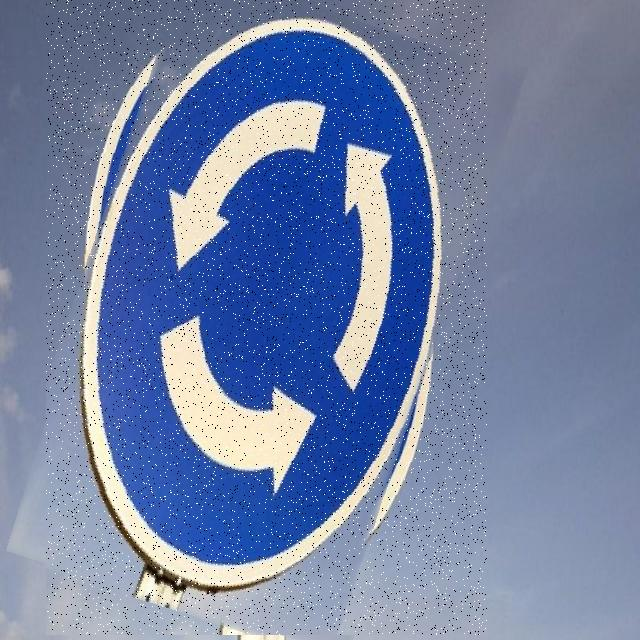roundabout: (46, 0, 487, 635)
